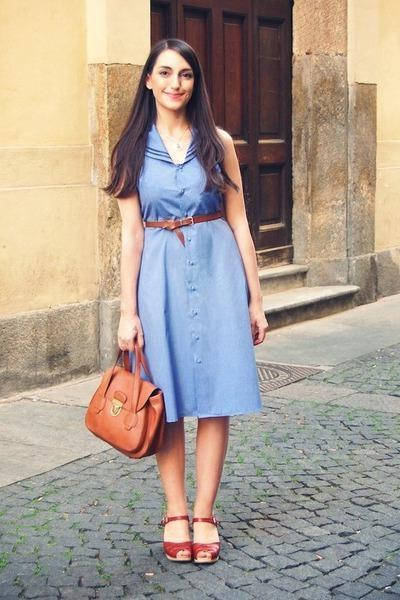dress: (114, 125, 262, 427)
